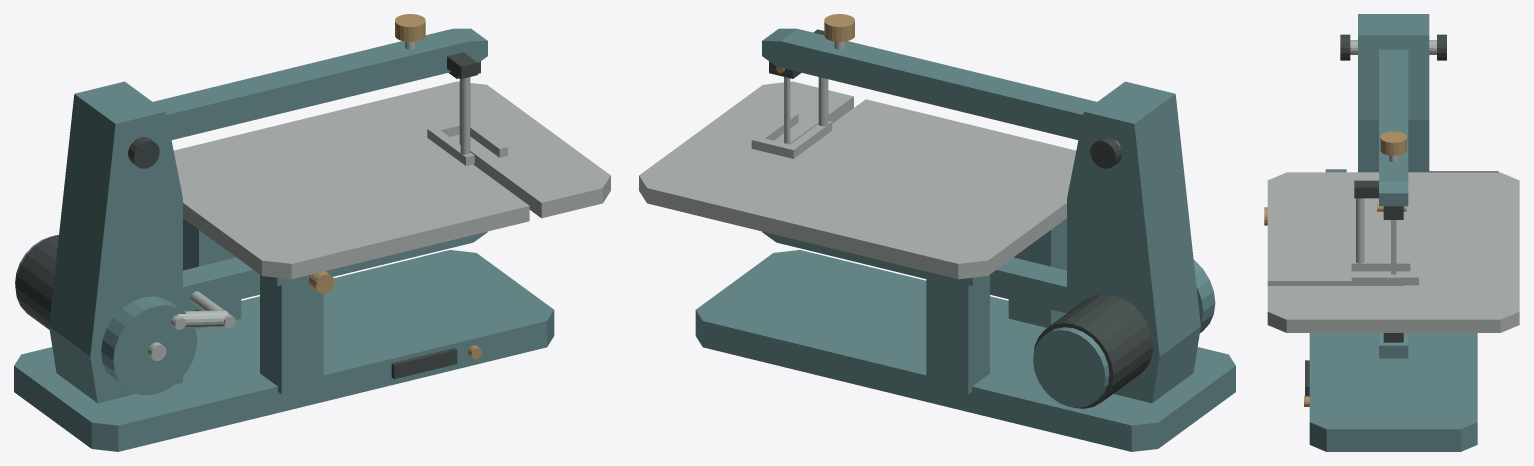
3 views of the same model, side by side, from view 1: azimuth 30°, elevation 25°; view 2: azimuth 150°, elevation 25°; view 3: azimuth 270°, elevation 25° (orthographic). The views are drawn at different scales.
Visible parts, largest first — view 1: WholeChamferedFrontSlottedWorkTable, WholeChamferedLowMachineBed, WholeTallRearCastColumn, WholeUpperLongParallelArm, WholeSideCrankDisk, WholeTableSideStandard-1, WholeLowerLongParallelArm, WholeRearMotorBody, WholeTableSideStandard1, WholeOpenMiddleHoldDownFoot, WholeBlankFrontControlFace, WholeHoldDownUprightStem (+4 smaller); view 2: WholeChamferedFrontSlottedWorkTable, WholeChamferedLowMachineBed, WholeTallRearCastColumn, WholeUpperLongParallelArm, WholeTableSideStandard1, WholeRearMotorBody, WholeRearMotorEndCap, WholeLowerLongParallelArm, WholeTableSideStandard-1, WholeOpenMiddleHoldDownFoot, WholeSideCrankDisk, WholeUpperTensionKnob (+1 smaller); view 3: WholeChamferedFrontSlottedWorkTable, WholeChamferedLowMachineBed, WholeTallRearCastColumn, WholeUpperLongParallelArm, WholeOpenMiddleHoldDownFoot, WholeLowerLongParallelArm, WholeUpperTensionKnob, WholeHoldDownUprightStem, WholeUpperArmHoldDownBracket, WholeThinVerticalBluntStrip, WholeUpperProudPivotCap-1, WholeUpperStripClamp (+1 smaller).
Boxes of the visible parts, x1,y1,x2,y2 form: WholeChamferedFrontSlottedWorkTable: (173,81,610,279); WholeChamferedLowMachineBed: (14,250,554,451); WholeTallRearCastColumn: (49,81,182,403); WholeUpperLongParallelArm: (153,28,487,139); WholeSideCrankDisk: (101,296,197,395); WholeTableSideStandard-1: (260,275,323,394); WholeLowerLongParallelArm: (183,231,487,311); WholeRearMotorBody: (15,235,58,329); WholeTableSideStandard1: (183,218,241,328); WholeOpenMiddleHoldDownFoot: (427,119,507,165); WholeBlankFrontControlFace: (391,348,457,379); WholeHoldDownUprightStem: (460,77,470,154); WholeChamferedFrontSlottedWorkTable: (639,81,1076,279); WholeChamferedLowMachineBed: (695,250,1235,451); WholeTallRearCastColumn: (1067,81,1200,403); WholeUpperLongParallelArm: (762,28,1096,139); WholeTableSideStandard1: (926,275,989,394); WholeRearMotorBody: (1033,293,1153,408); WholeRearMotorEndCap: (1033,327,1109,407); WholeLowerLongParallelArm: (762,231,1066,313); WholeTableSideStandard-1: (1008,218,1066,327); WholeOpenMiddleHoldDownFoot: (751,111,832,158); WholeSideCrankDisk: (1193,259,1215,332); WholeUpperTensionKnob: (824,14,854,41); WholeChamferedFrontSlottedWorkTable: (1267,172,1519,332); WholeChamferedLowMachineBed: (1309,333,1477,451); WholeTallRearCastColumn: (1358,14,1429,172); WholeUpperLongParallelArm: (1379,49,1408,206); WholeOpenMiddleHoldDownFoot: (1351,260,1418,285); WholeLowerLongParallelArm: (1379,333,1408,358); WholeUpperTensionKnob: (1380,131,1406,155); WholeHoldDownUprightStem: (1356,198,1364,263); WholeUpperArmHoldDownBracket: (1354,180,1378,198); WholeThinVerticalBluntStrip: (1391,220,1396,285); WholeUpperProudPivotCap-1: (1340,34,1350,60); WholeUpperStripClamp: (1383,206,1403,219).
Size of the model in its own units: 1.18 by 0.711 by 0.608.
